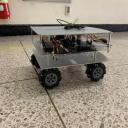cart: (30, 26, 112, 89)
